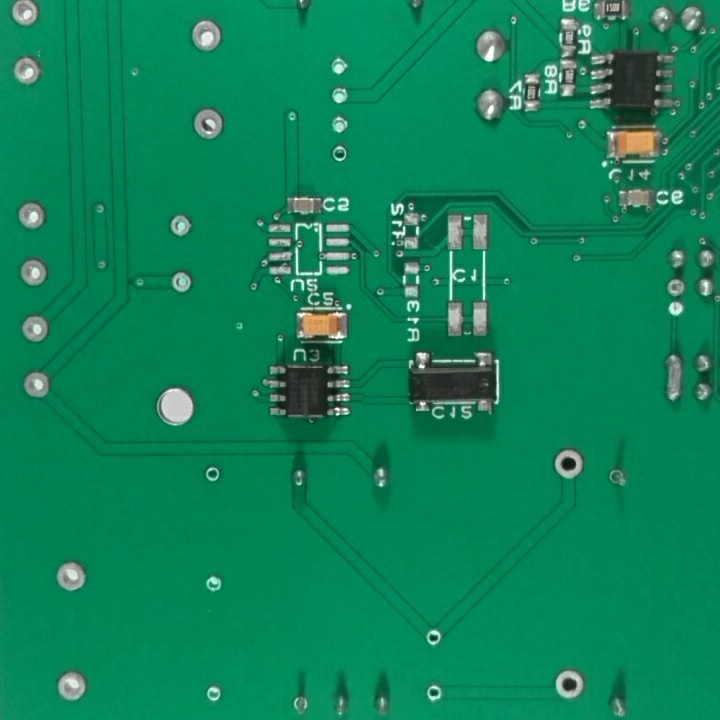F: (189, 106, 227, 146), (53, 668, 93, 705), (189, 17, 224, 56), (51, 558, 88, 593), (550, 666, 586, 701), (552, 448, 585, 484), (21, 313, 54, 347), (22, 369, 54, 403), (11, 54, 42, 89), (18, 258, 51, 289), (18, 203, 49, 235), (8, 1, 42, 30), (167, 213, 194, 241), (168, 269, 197, 295), (664, 274, 687, 302), (328, 84, 353, 109), (607, 466, 630, 491), (328, 55, 352, 78), (288, 692, 311, 715), (329, 114, 351, 138), (423, 683, 445, 704), (202, 575, 225, 595), (203, 466, 224, 486), (423, 626, 442, 648), (330, 144, 350, 164), (202, 686, 225, 703)
P: (662, 348, 686, 406)
